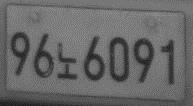0: (107, 36, 131, 82)
1: (159, 39, 176, 86)
6: (32, 32, 54, 79), (83, 34, 105, 81)
9: (8, 30, 31, 77), (133, 36, 155, 83)
노: (55, 41, 80, 81)
